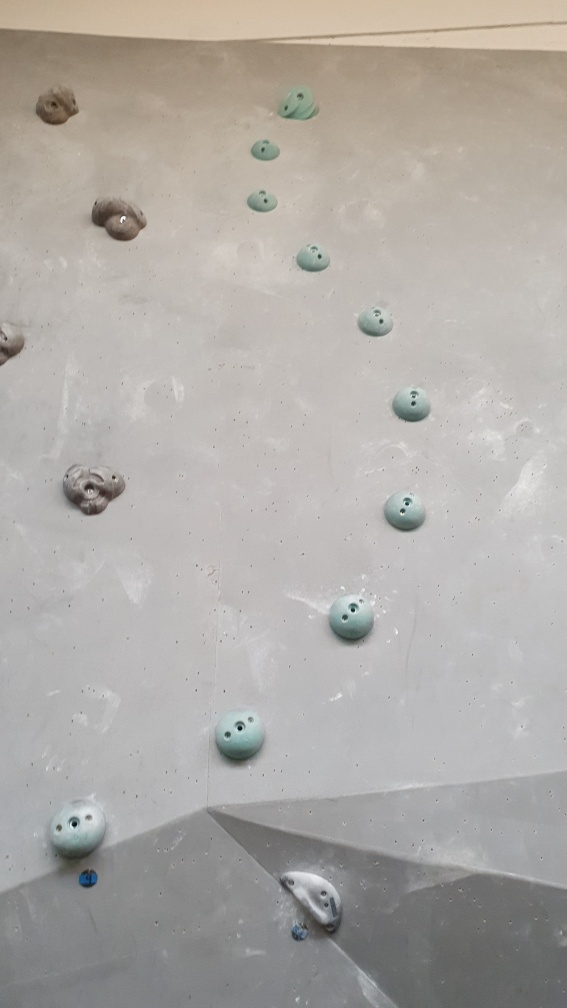Hand Start: (74, 864, 104, 891), (289, 920, 311, 944)
Jug: (61, 457, 129, 520), (89, 190, 151, 246)
Sloper: (47, 795, 113, 863), (208, 699, 271, 766), (323, 588, 379, 649), (381, 482, 427, 534), (390, 381, 433, 422), (357, 302, 398, 344), (294, 239, 333, 280), (246, 135, 285, 164), (246, 188, 279, 217)
